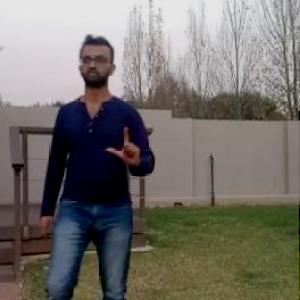land_hand: (97, 118, 143, 172)
